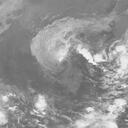cyclone: (30, 17, 94, 73)
